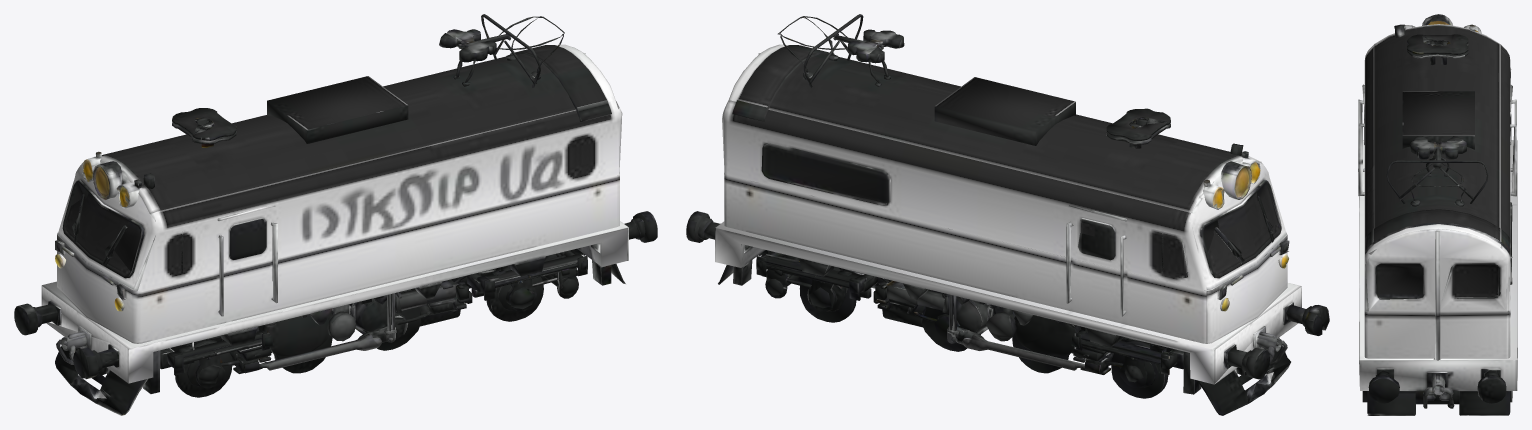
File: train_loco.glb
The picture shows the model from 3 angles, left to right: view 1: azimuth 30°, elevation 25°; view 2: azimuth 150°, elevation 25°; view 3: azimuth 270°, elevation 25°; orthographic projection. The views are drawn at different scales.
Bounding box in the file's own units: 0.9575 × 0.4248 × 0.2578.
Materials: 1 (1 with a texture image).
